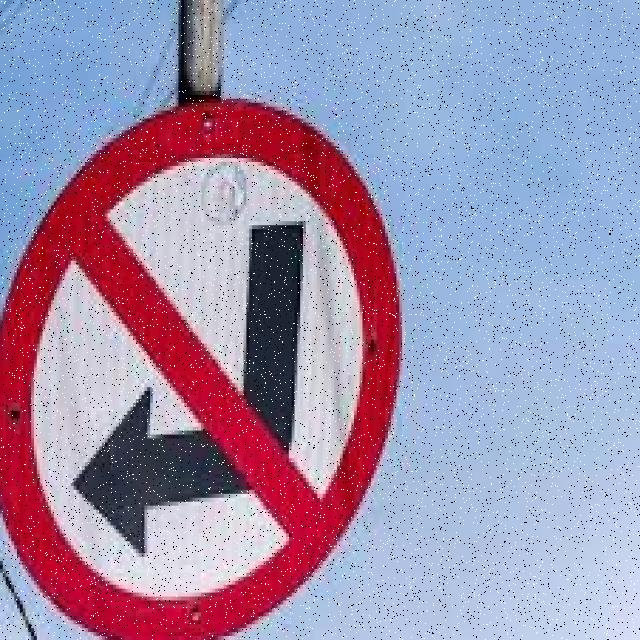do_not_turn_right: (0, 95, 402, 640)
